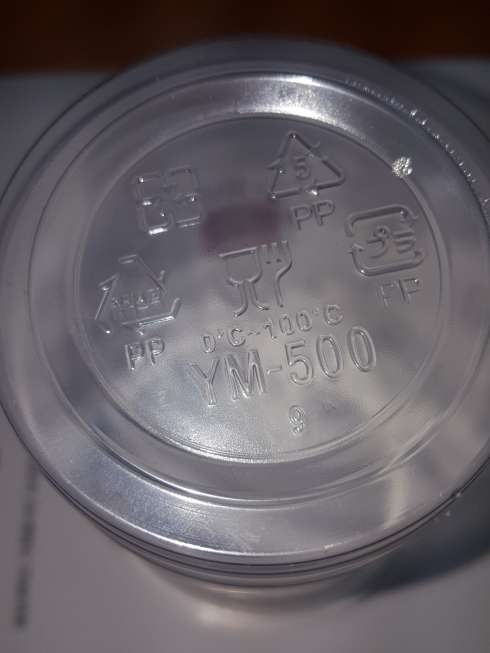recycle: (255, 118, 347, 230)
